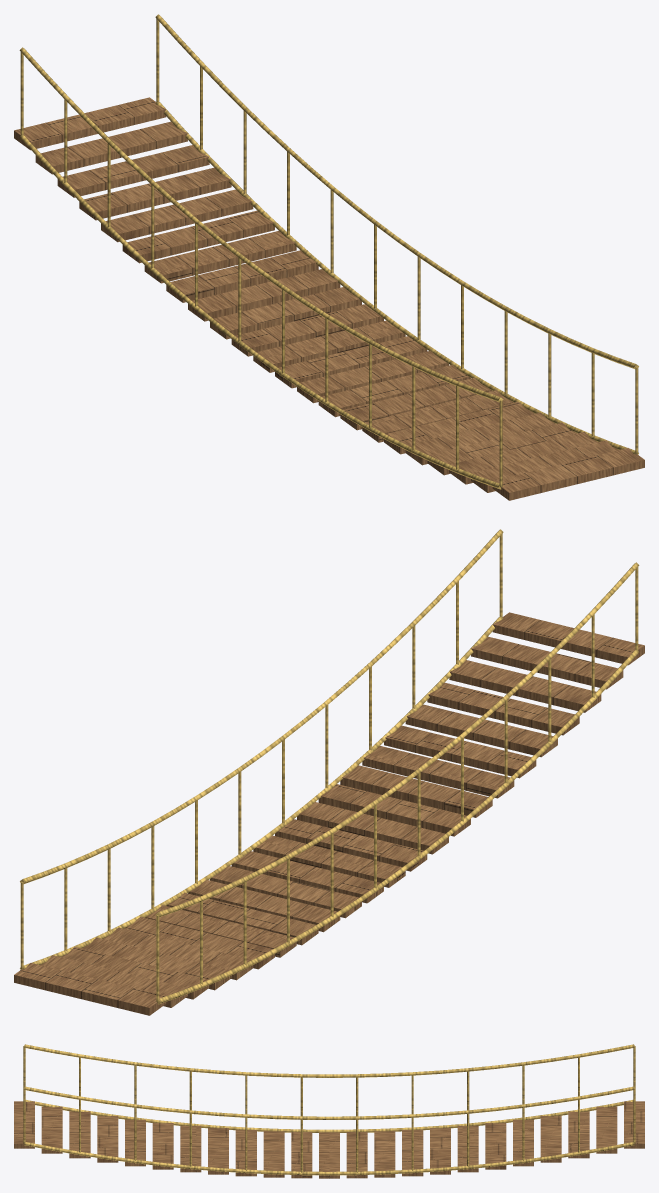
File: bridge_rope.gltf
3 renders of one model, top to bottom at view 1: azimuth 30°, elevation 25°; view 2: azimuth 150°, elevation 25°; view 3: azimuth 270°, elevation 25°, orthographic. The views are drawn at different scales.
Parts seen in each view (by area): view 1: Bridge; view 2: Bridge; view 3: Bridge.
Part boxes in pixels (x1,y1,x2,y2): Bridge: (14, 14, 644, 500); Bridge: (14, 529, 644, 1015); Bridge: (14, 1044, 644, 1178).
Bounding box in the file's own units: 1.87 × 1.83 × 11.38.
2 materials, 2 textured.
